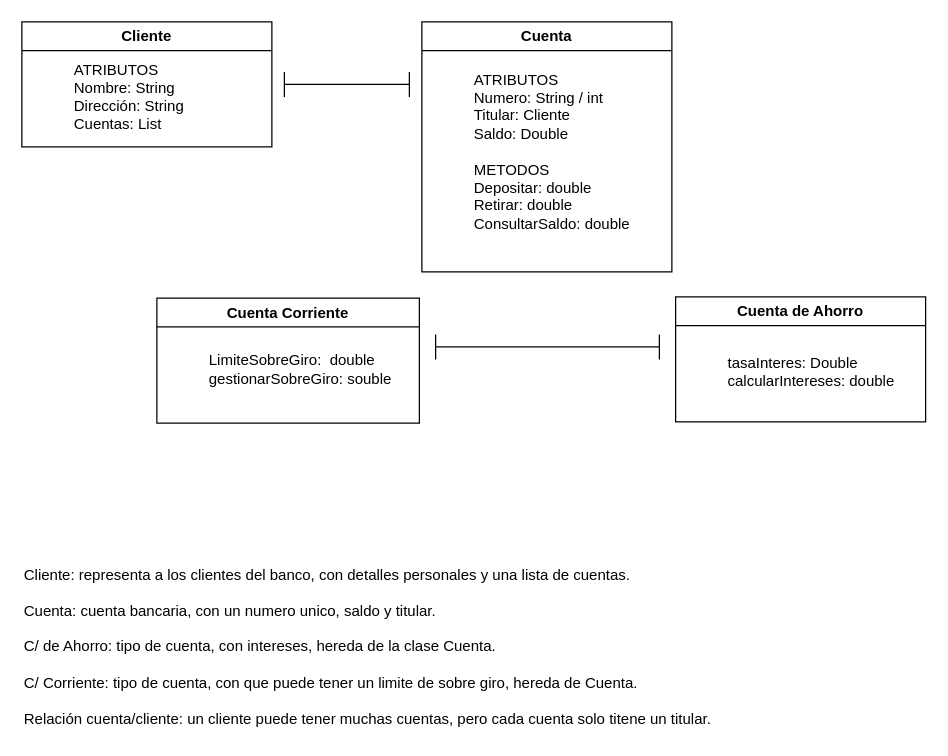
Image size: 948x756. Some labels were removed from this diagram. Here are the shapes that lost their labels. From the top down, the centre of each, then its label:
At (346,84): "(1:N)".
At (546,346): "heredan de Cuenta".
